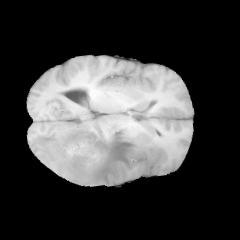glioma: (30, 126, 136, 186)
